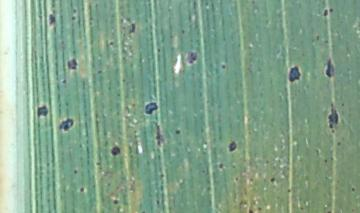tarspot: (149, 119, 164, 148), (326, 102, 339, 133), (57, 117, 76, 133), (286, 65, 302, 83), (323, 56, 336, 78), (143, 101, 159, 115), (184, 49, 198, 65), (36, 104, 49, 119), (65, 57, 78, 71), (46, 12, 57, 28), (227, 140, 238, 153), (110, 145, 121, 157), (128, 22, 136, 34), (321, 9, 329, 19), (36, 14, 44, 23), (219, 62, 227, 70), (70, 14, 77, 23), (217, 161, 224, 170), (314, 33, 321, 42), (112, 198, 120, 205), (60, 77, 67, 85), (107, 40, 115, 47), (155, 197, 161, 206), (174, 128, 181, 135), (78, 186, 85, 193), (285, 187, 292, 194), (256, 206, 263, 213), (155, 46, 161, 54), (95, 69, 103, 75), (233, 175, 239, 183), (322, 39, 330, 45), (159, 172, 165, 180), (72, 169, 78, 176), (269, 176, 275, 183), (339, 101, 346, 107), (336, 140, 342, 147), (120, 77, 126, 84), (200, 168, 207, 174), (94, 161, 102, 166), (247, 208, 255, 213), (328, 7, 334, 13), (71, 8, 77, 14), (248, 177, 254, 183), (59, 39, 65, 45), (323, 158, 328, 165), (180, 28, 185, 35), (249, 1, 256, 6), (264, 158, 269, 165), (298, 206, 305, 211), (350, 186, 355, 192), (204, 1, 209, 7), (324, 210, 332, 213), (140, 209, 146, 213)
